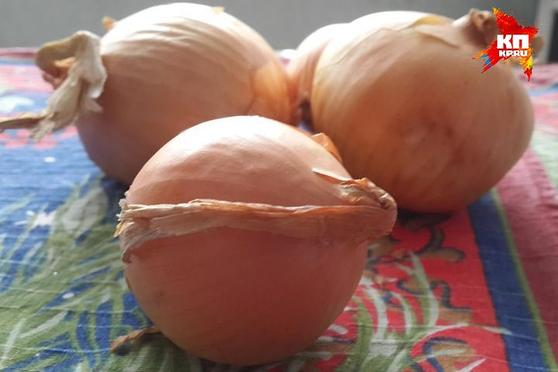onion: (124, 114, 408, 366), (308, 10, 538, 222)
